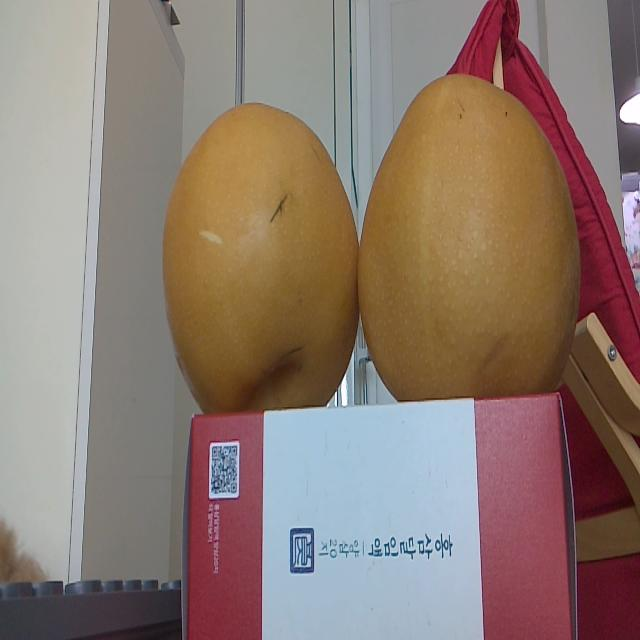pear: (366, 70, 582, 400), (162, 98, 361, 407)
